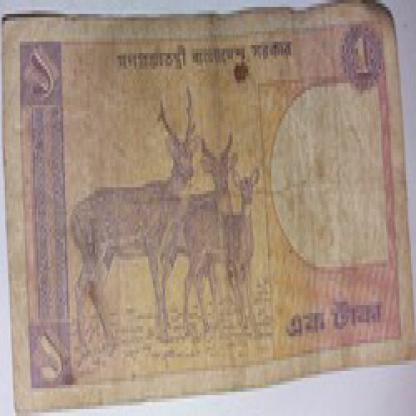One Taka: (284, 295, 382, 336), (30, 326, 72, 385), (20, 45, 62, 104), (350, 31, 376, 83)
